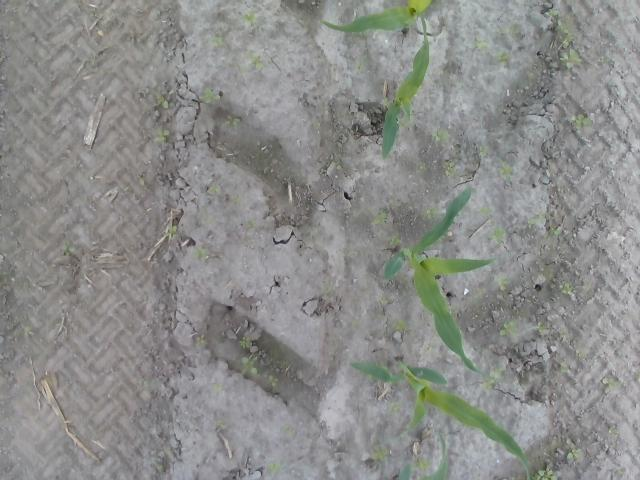Maize: (381, 186, 500, 381), (346, 360, 532, 480), (382, 1, 432, 159), (378, 429, 451, 480), (319, 0, 434, 32)
Weeds: (546, 8, 571, 46), (480, 369, 508, 389), (572, 112, 592, 132), (236, 55, 262, 70), (526, 210, 548, 227), (600, 376, 622, 393), (528, 468, 559, 480), (559, 50, 582, 66), (497, 162, 516, 181), (150, 90, 168, 110), (240, 358, 258, 378), (200, 87, 221, 103), (500, 320, 520, 336), (432, 127, 448, 146), (443, 161, 458, 180), (371, 446, 386, 464), (193, 246, 212, 260), (224, 112, 240, 128), (162, 226, 178, 242), (370, 212, 386, 228), (487, 227, 505, 241), (495, 276, 510, 292), (152, 130, 169, 144), (427, 205, 442, 220), (62, 240, 78, 254), (266, 461, 282, 474), (392, 320, 409, 332), (497, 26, 517, 36), (474, 36, 488, 50), (534, 322, 548, 336), (568, 446, 582, 460), (353, 58, 367, 72), (388, 400, 402, 414), (560, 283, 575, 296), (242, 11, 256, 24), (389, 236, 404, 248), (211, 36, 223, 50), (22, 326, 34, 340), (238, 337, 252, 349), (226, 192, 240, 204), (212, 381, 225, 393), (500, 50, 511, 64), (478, 143, 488, 157), (478, 206, 492, 216), (551, 225, 562, 237), (321, 285, 334, 295), (282, 426, 294, 436), (560, 362, 570, 374), (244, 220, 254, 231), (208, 185, 220, 194), (334, 162, 344, 172), (380, 298, 390, 308), (416, 162, 426, 172), (136, 377, 150, 384), (314, 120, 322, 131), (215, 420, 224, 429)
